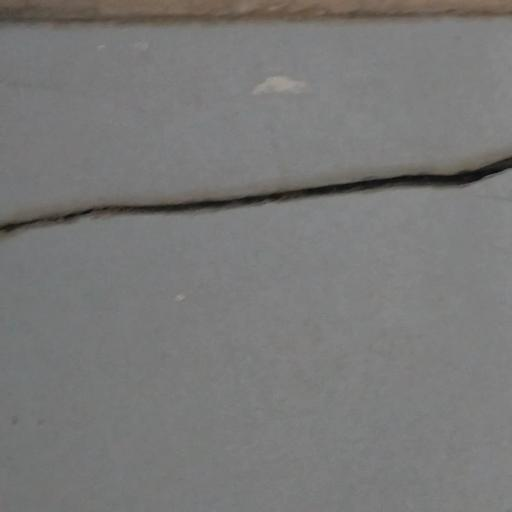major_crack: (0, 109, 512, 269)
